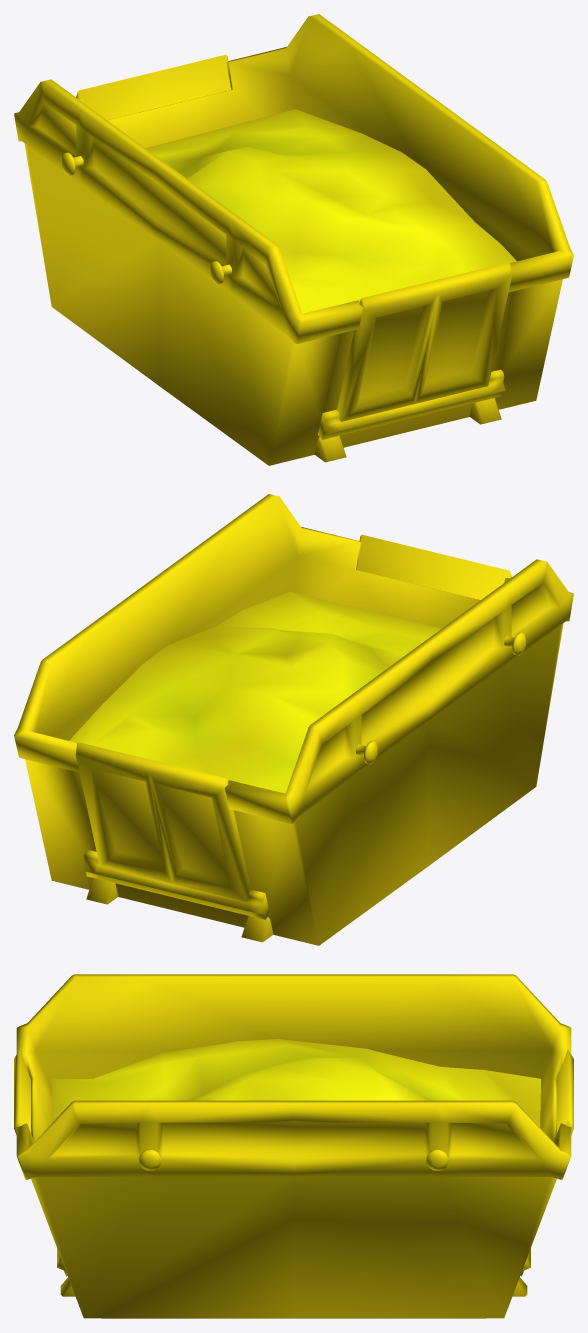
The model's file is SkipYellow.glb.
3 views of the same model, one above another, from view 1: azimuth 30°, elevation 25°; view 2: azimuth 150°, elevation 25°; view 3: azimuth 270°, elevation 25° (orthographic). The views are drawn at different scales.
Visible parts, largest first — view 1: SkipYellow; view 2: SkipYellow; view 3: SkipYellow.
Part boxes in pixels (x1=…): SkipYellow: x1=14, y1=14, x2=573, y2=465; SkipYellow: x1=14, y1=494, x2=573, y2=945; SkipYellow: x1=14, y1=974, x2=573, y2=1318.
Bounding box in the file's own units: 3.34 × 2.3 × 5.4.
2 materials, 2 textured.
